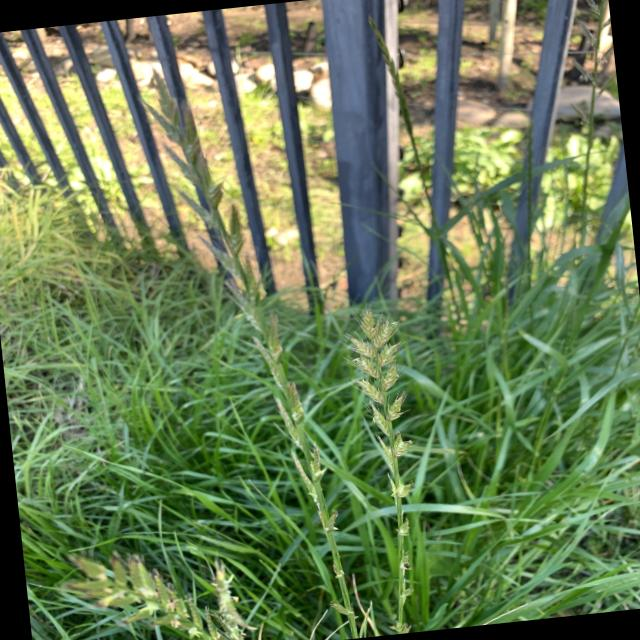Lolium: (140, 56, 361, 640), (334, 303, 437, 636), (62, 535, 246, 640)
